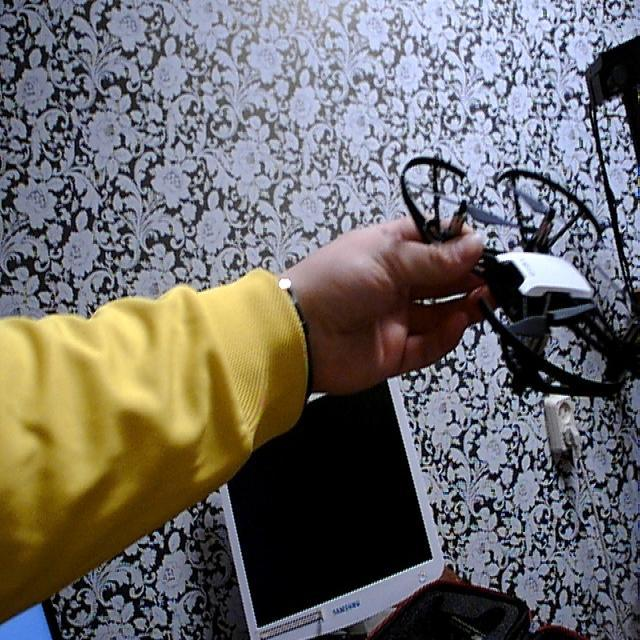drone: (389, 133, 640, 420)
